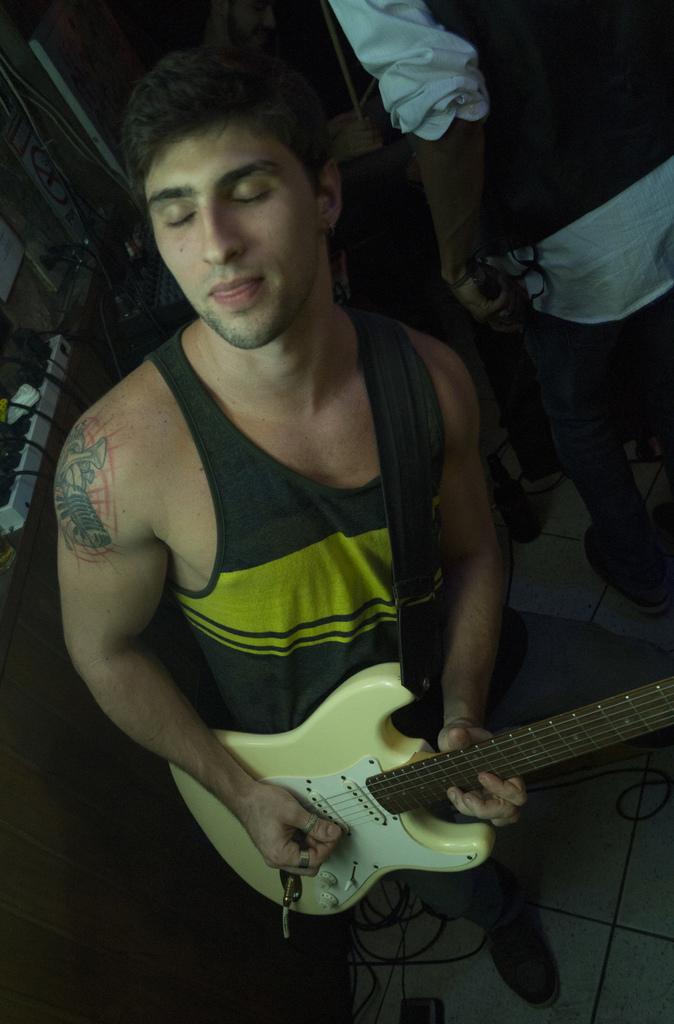Human_hand: (188, 762, 356, 889), (438, 725, 529, 834), (440, 258, 530, 335)
